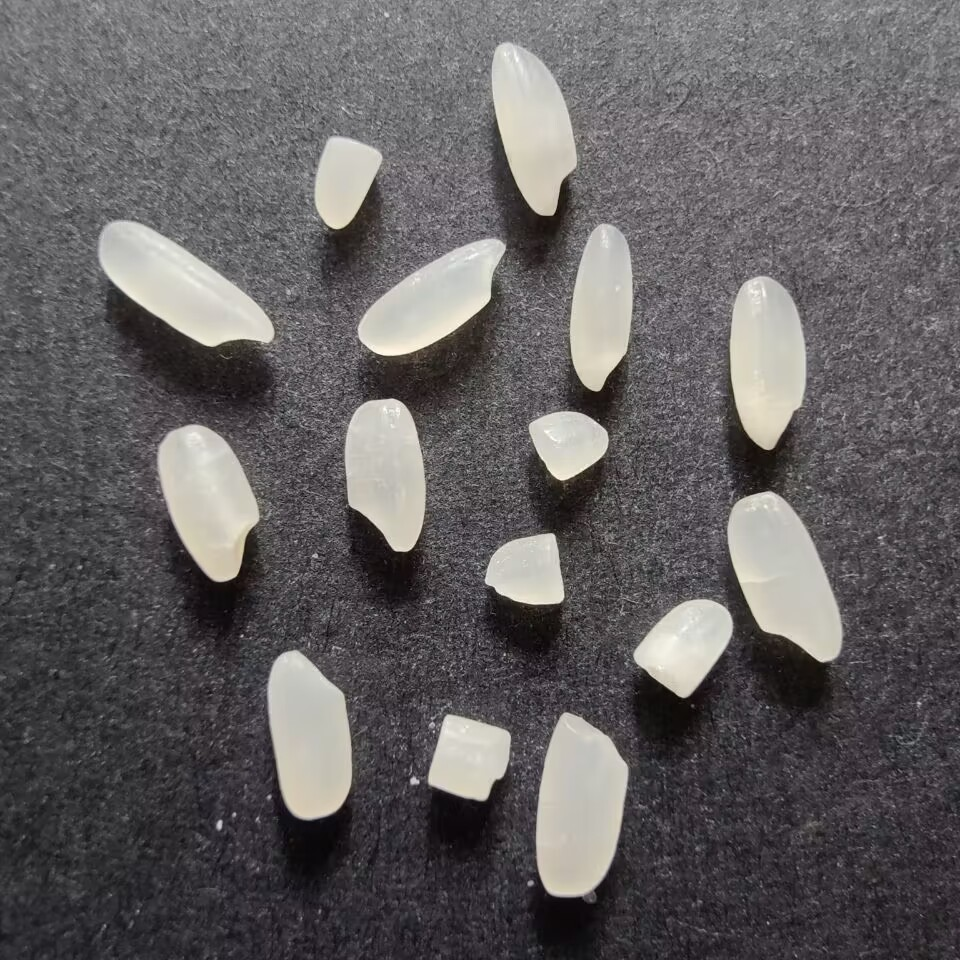broken: (628, 595, 735, 705), (423, 711, 518, 810), (310, 134, 386, 235), (521, 407, 615, 484), (481, 525, 564, 612)
rice: (92, 217, 282, 355), (724, 486, 845, 669), (532, 709, 634, 906), (353, 233, 508, 360), (151, 416, 262, 587), (487, 36, 582, 222), (264, 646, 361, 825), (727, 273, 812, 454), (340, 394, 427, 560), (564, 220, 635, 395)
